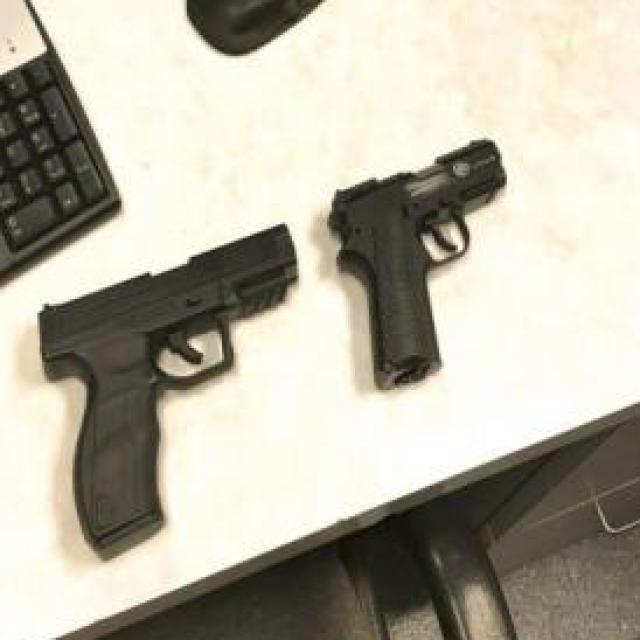pistol: (33, 220, 300, 550), (327, 135, 514, 395)
